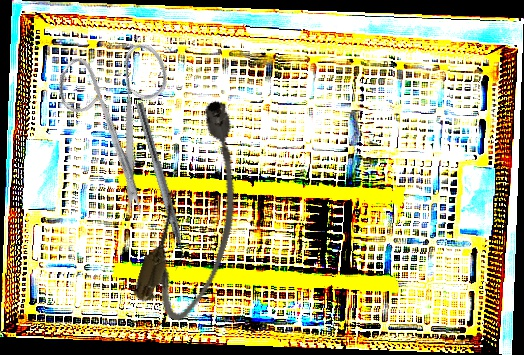Cannula: (129, 94, 268, 328)
Chopper: (124, 101, 193, 272)
Iris Scissors: (19, 12, 230, 222)
